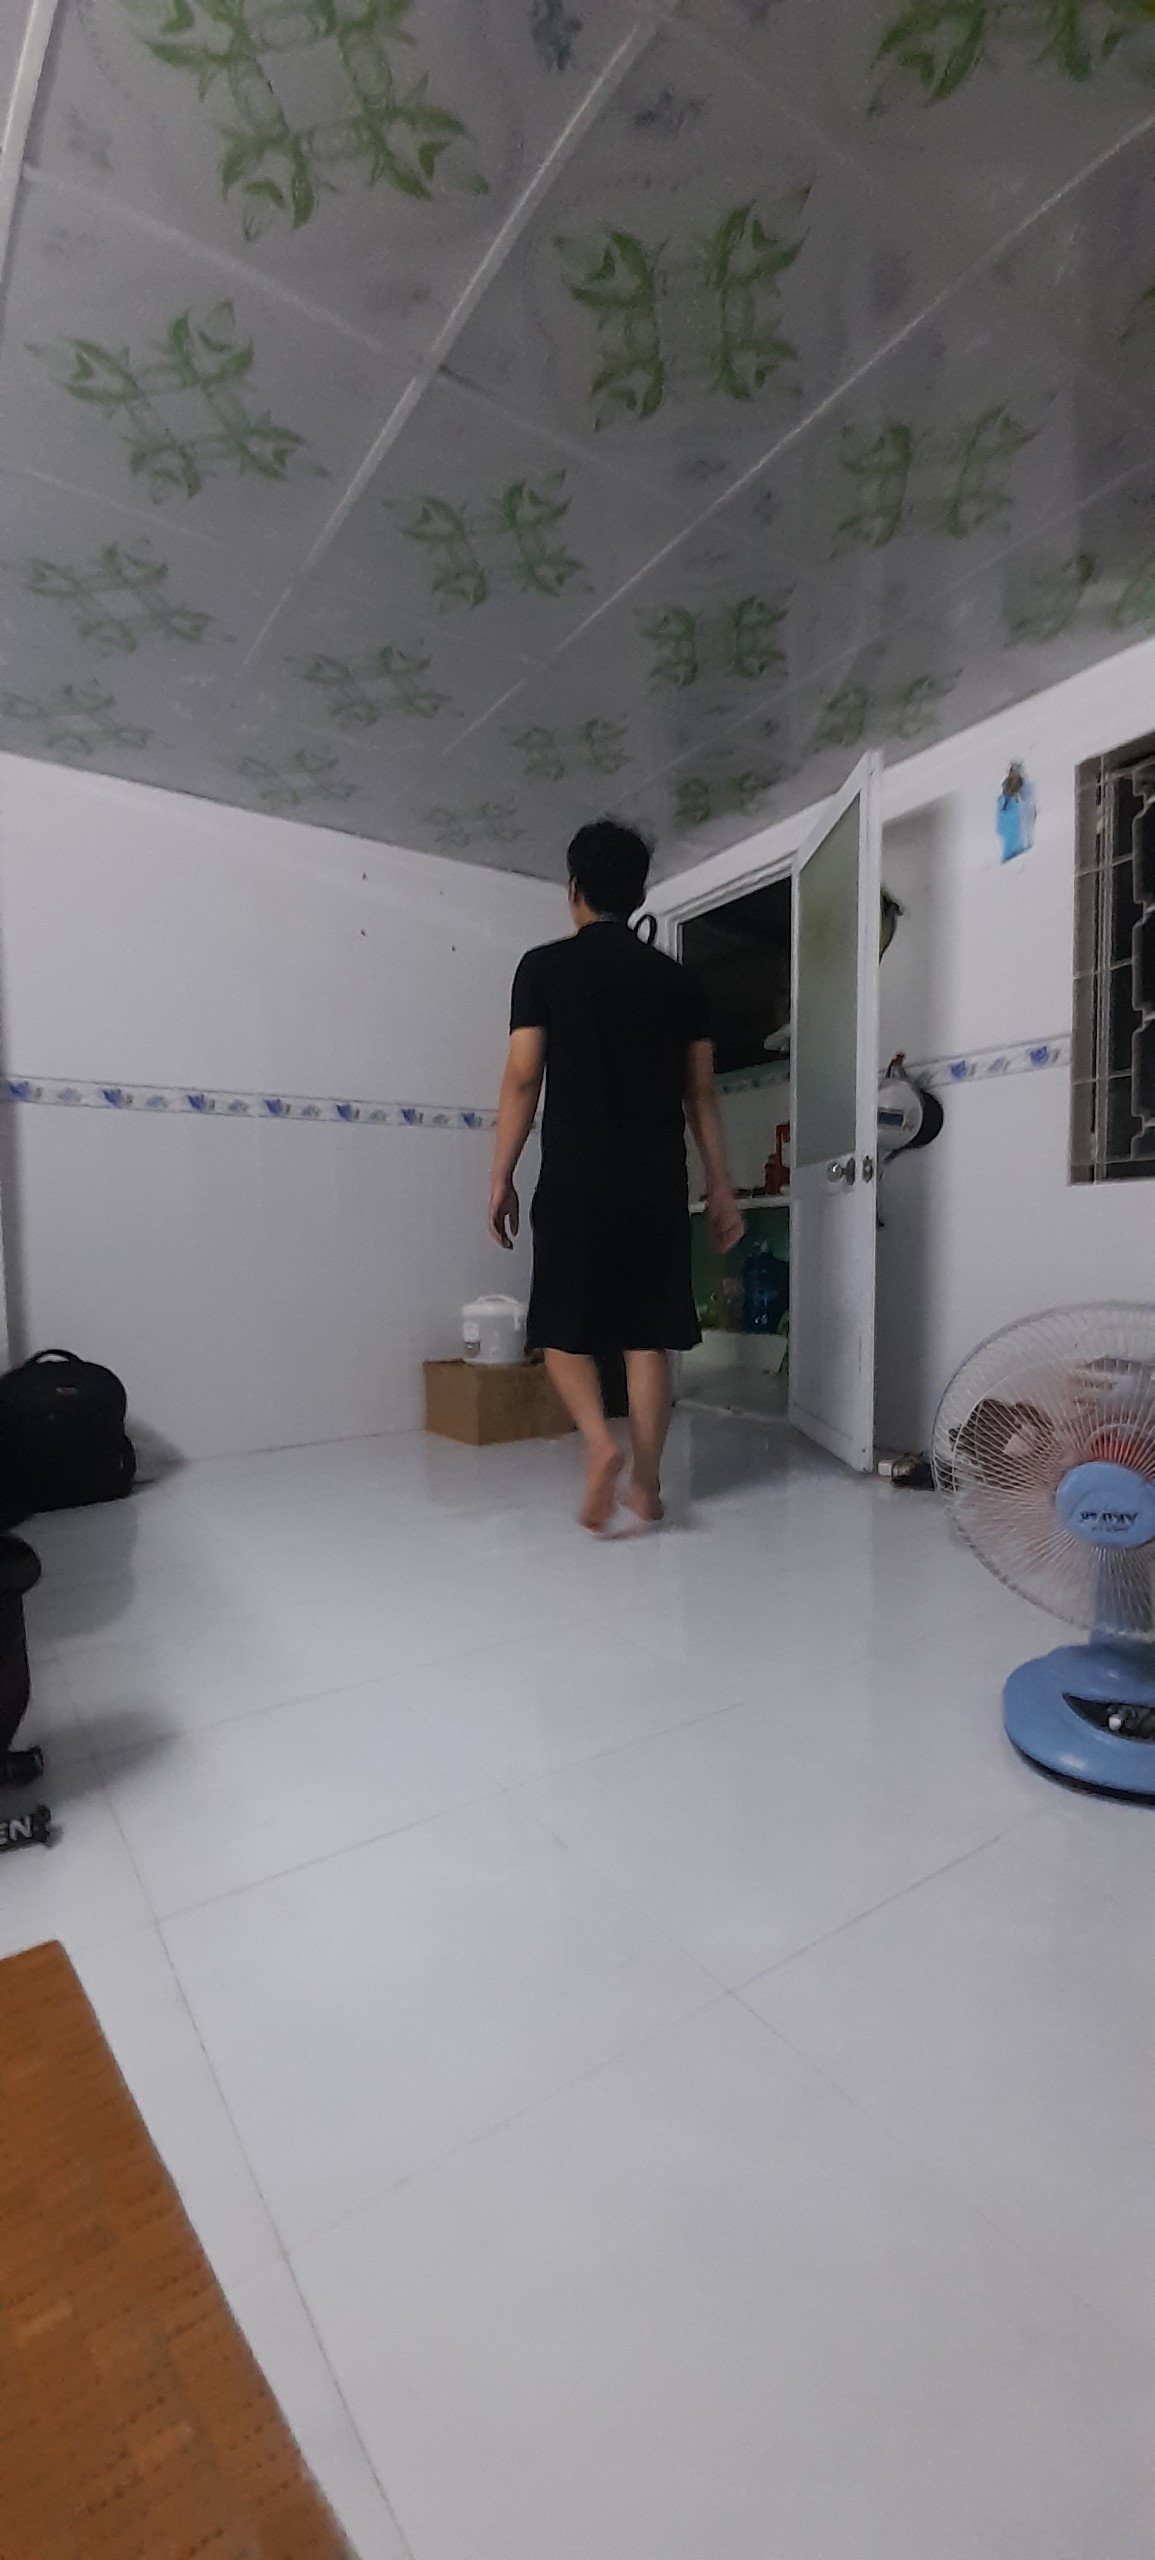person: (503, 812, 703, 1525)
